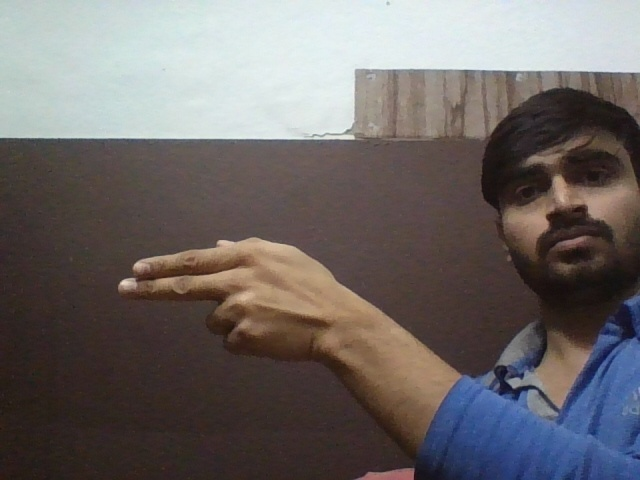H: (102, 238, 338, 368)
